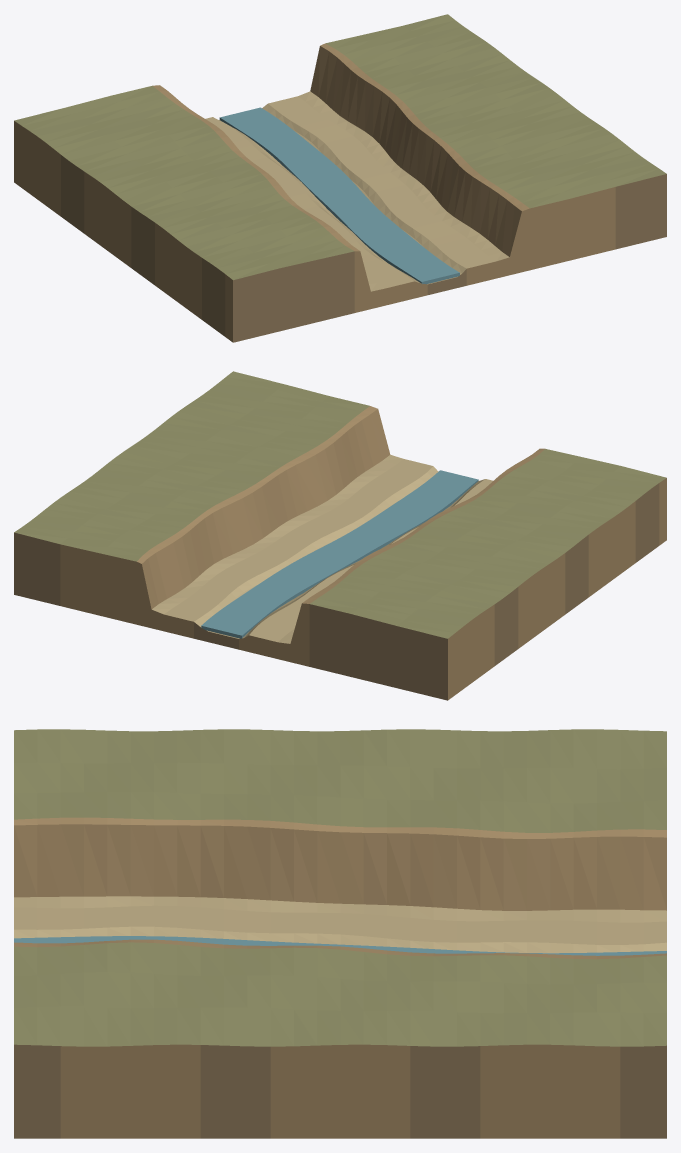
3 renders of one model, top to bottom at view 1: azimuth 30°, elevation 25°; view 2: azimuth 150°, elevation 25°; view 3: azimuth 270°, elevation 25°, orthographic. The views are drawn at different scales.
Parts seen in each view (by area): view 1: abandoned_floodplain_benches_clear_risers_and_lower_active_f, opaque_active_river_water_volume; view 2: abandoned_floodplain_benches_clear_risers_and_lower_active_f, opaque_active_river_water_volume; view 3: abandoned_floodplain_benches_clear_risers_and_lower_active_f, opaque_active_river_water_volume.
Boxes of the visible parts, x1,y1,x2,y2 form: abandoned_floodplain_benches_clear_risers_and_lower_active_f: (14,14,666,342); opaque_active_river_water_volume: (219,107,459,284); abandoned_floodplain_benches_clear_risers_and_lower_active_f: (14,371,666,700); opaque_active_river_water_volume: (201,470,478,638); abandoned_floodplain_benches_clear_risers_and_lower_active_f: (14,729,666,1138); opaque_active_river_water_volume: (14,936,666,955).
Bounding box in the file's own units: 80 × 11.12 × 70.
